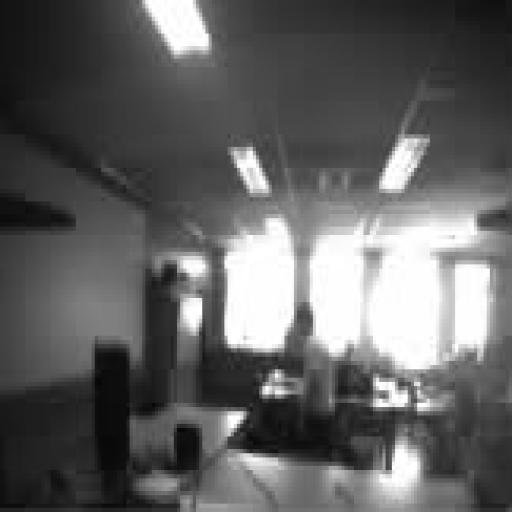human: (301, 311, 335, 449), (280, 307, 322, 375)
